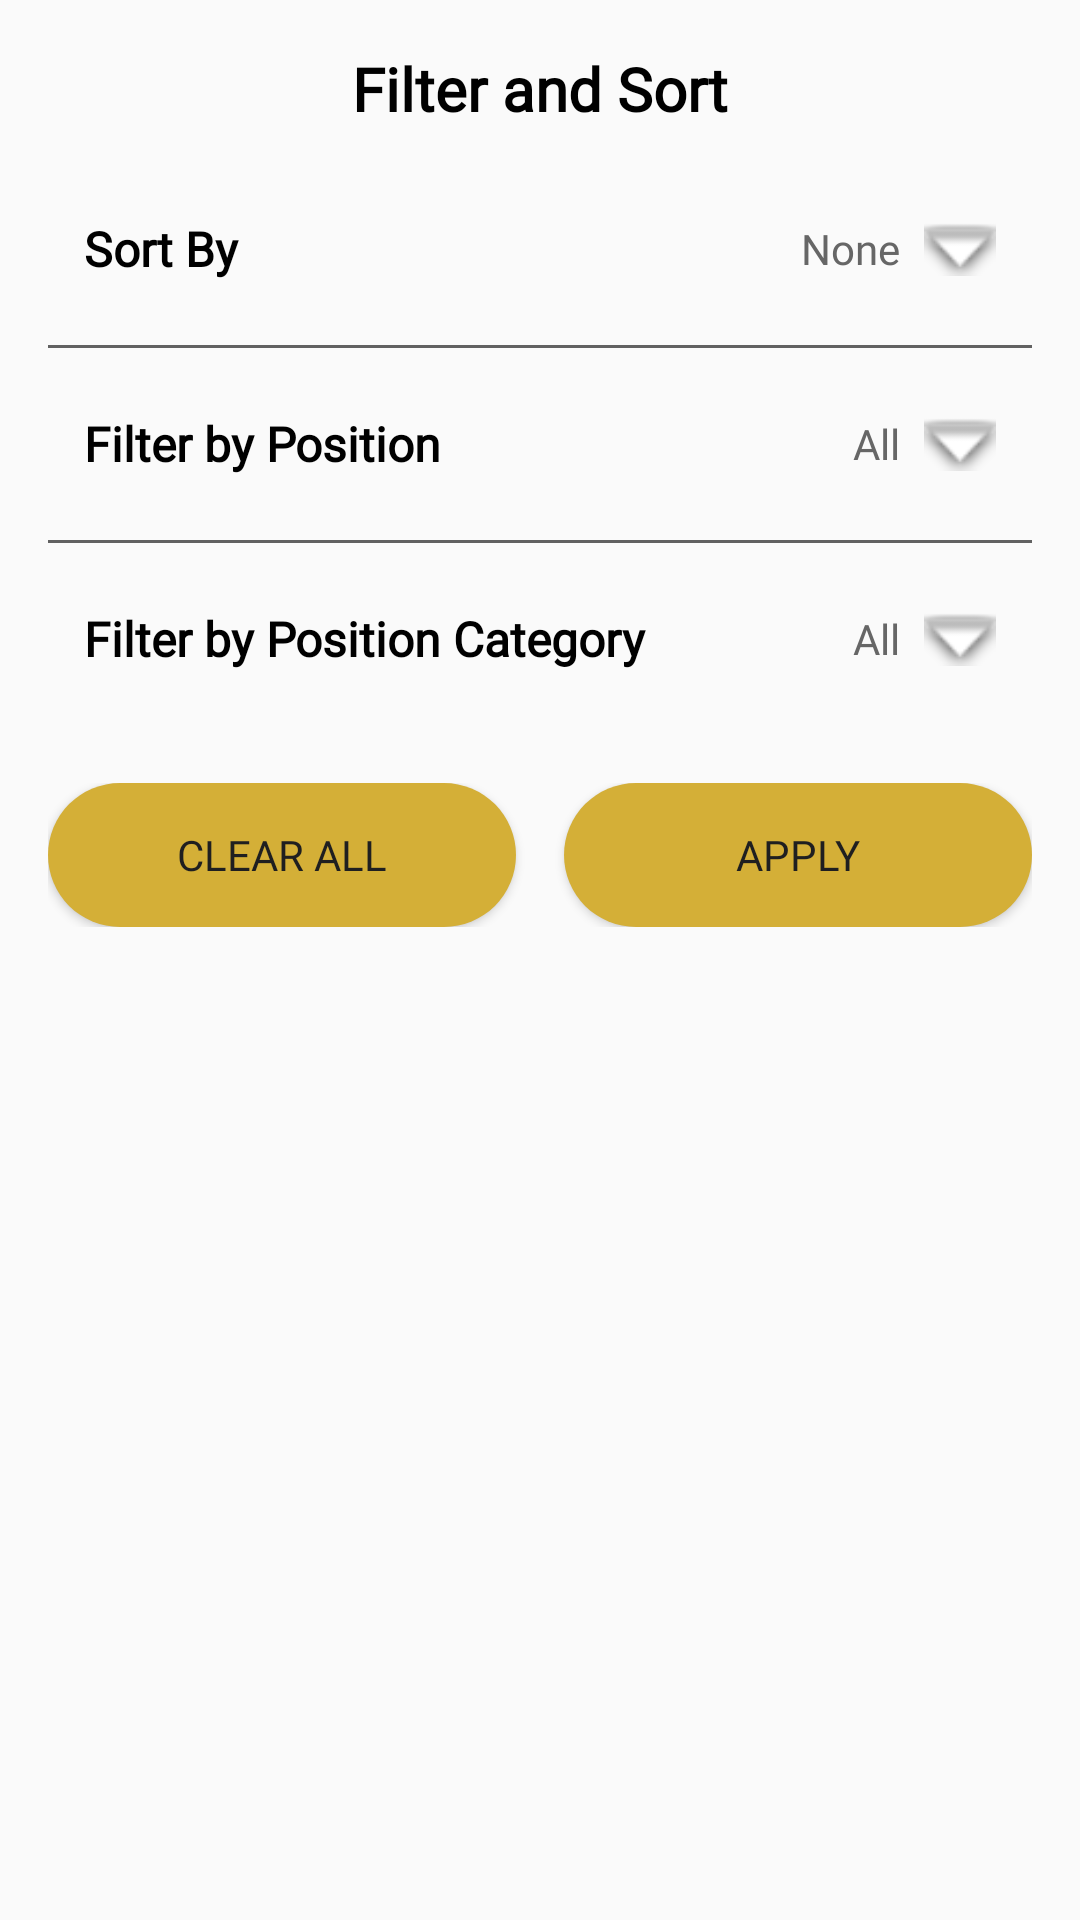

Screen size 1080 × 1920. Icon name, then its center in pixels as (x=x, y=y):
Expand: (x=960, y=249), (x=960, y=444), (x=960, y=639)
